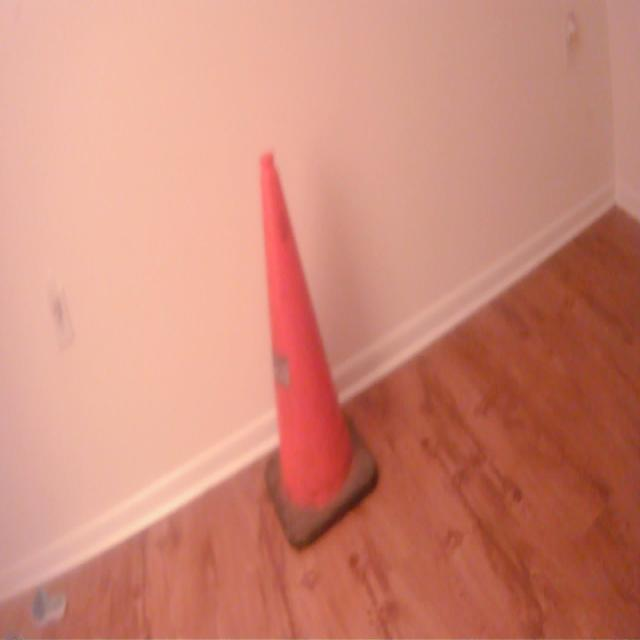traffic cone: (257, 146, 382, 553)
